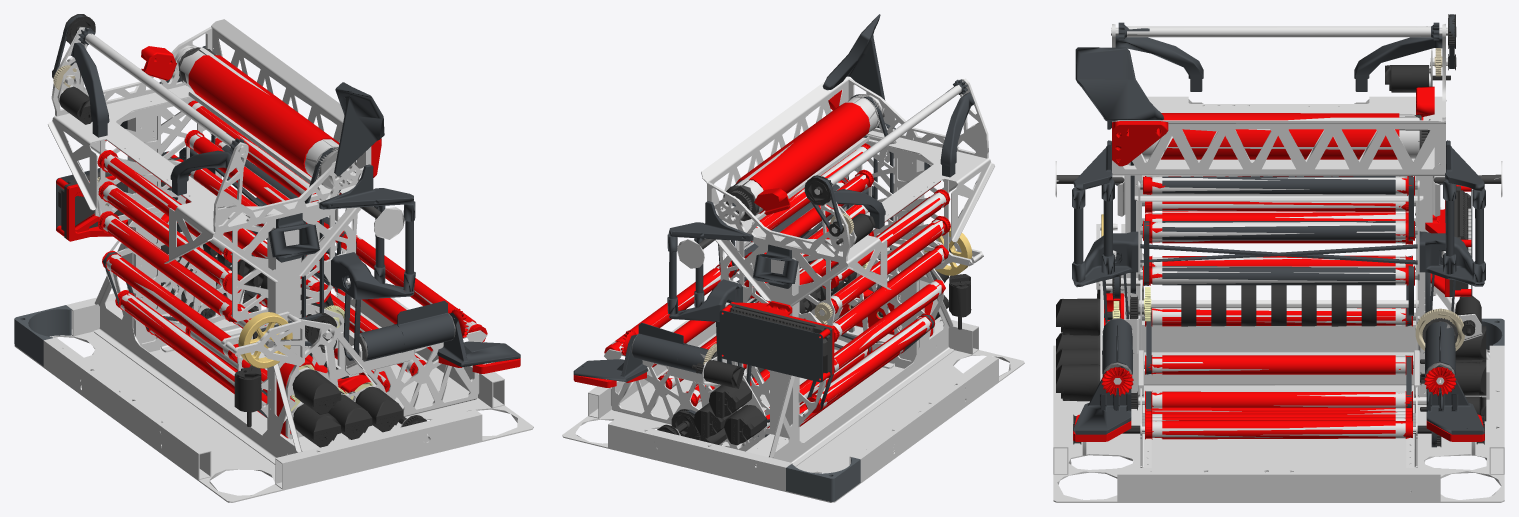
Rendered from 1114-body.glb.
3 views of the same model, side by side, from view 1: azimuth 30°, elevation 25°; view 2: azimuth 150°, elevation 25°; view 3: azimuth 270°, elevation 25° (orthographic). The views are drawn at different scales.
Visible parts, largest first — view 1: Part 103, Part 72, S26-SH-P042, Part 73, S26-IN-P017, S26-SW-P003 - Bottom Cover, 4" Brass Flywheel (1/2" Triangle Bore), Simplified PDP 2.0, S26-IN-P008; view 2: Part 103, Part 72, S26-SH-P042, Part 73, S26-IN-P017, S26-SW-P003 - Bottom Cover, Simplified PDP 2.0, 4" Brass Flywheel (1/2" Triangle Bore), Plastic Tube Plug Sleeve (2"x2"x.06", 1/4" Clearance) (2-Pac, 30t Aluminum Spur Gear (20 DP, 1/2" Hex Bore); view 3: Part 103, Part 73, S26-SH-P042, Part 72, S26-IN-P017, 30t Aluminum Spur Gear (20 DP, 1/2" Hex Bore), Simplified PDP 2.0, S26-SW-P003 - Bottom Cover, S26-SH-P041, S26-IN-P008.
Boxes of the visible parts, box(x1,y1,x2,y2) form: Part 103: box(48, 19, 487, 464); Part 72: box(56, 46, 520, 438); S26-SH-P042: box(14, 272, 533, 502); Part 73: box(53, 14, 520, 417); S26-IN-P017: box(52, 14, 426, 447); S26-SW-P003 - Bottom Cover: box(14, 305, 71, 366); 4" Brass Flywheel (1/2" Triangle Bore): box(238, 312, 292, 368); Simplified PDP 2.0: box(58, 157, 180, 238); S26-IN-P008: box(215, 140, 406, 427); Part 103: box(604, 76, 994, 466); Part 72: box(573, 90, 950, 428); S26-SH-P042: box(562, 297, 1024, 502); Part 73: box(573, 14, 974, 437); S26-IN-P017: box(657, 175, 971, 445); S26-SW-P003 - Bottom Cover: box(786, 457, 860, 501); Simplified PDP 2.0: box(727, 303, 832, 376); 4" Brass Flywheel (1/2" Triangle Bore): box(924, 227, 972, 275); Plastic Tube Plug Sleeve (2"x2"x.06", 1/4" Clearance) (2-Pac: box(711, 180, 759, 359); 30t Aluminum Spur Gear (20 DP, 1/2" Hex Bore): box(703, 212, 865, 385); Part 103: box(1055, 24, 1502, 467); Part 73: box(1072, 14, 1485, 447); S26-SH-P042: box(1053, 178, 1504, 502); Part 72: box(1073, 86, 1484, 441); S26-IN-P017: box(1056, 14, 1486, 446); 30t Aluminum Spur Gear (20 DP, 1/2" Hex Bore): box(1144, 48, 1464, 350); Simplified PDP 2.0: box(1449, 186, 1470, 296); S26-SW-P003 - Bottom Cover: box(1481, 318, 1504, 350); S26-SH-P041: box(1056, 174, 1501, 183); S26-IN-P008: box(1082, 181, 1475, 455).
Size of the model in its own units: 0.6223 by 0.7037 by 0.762.
